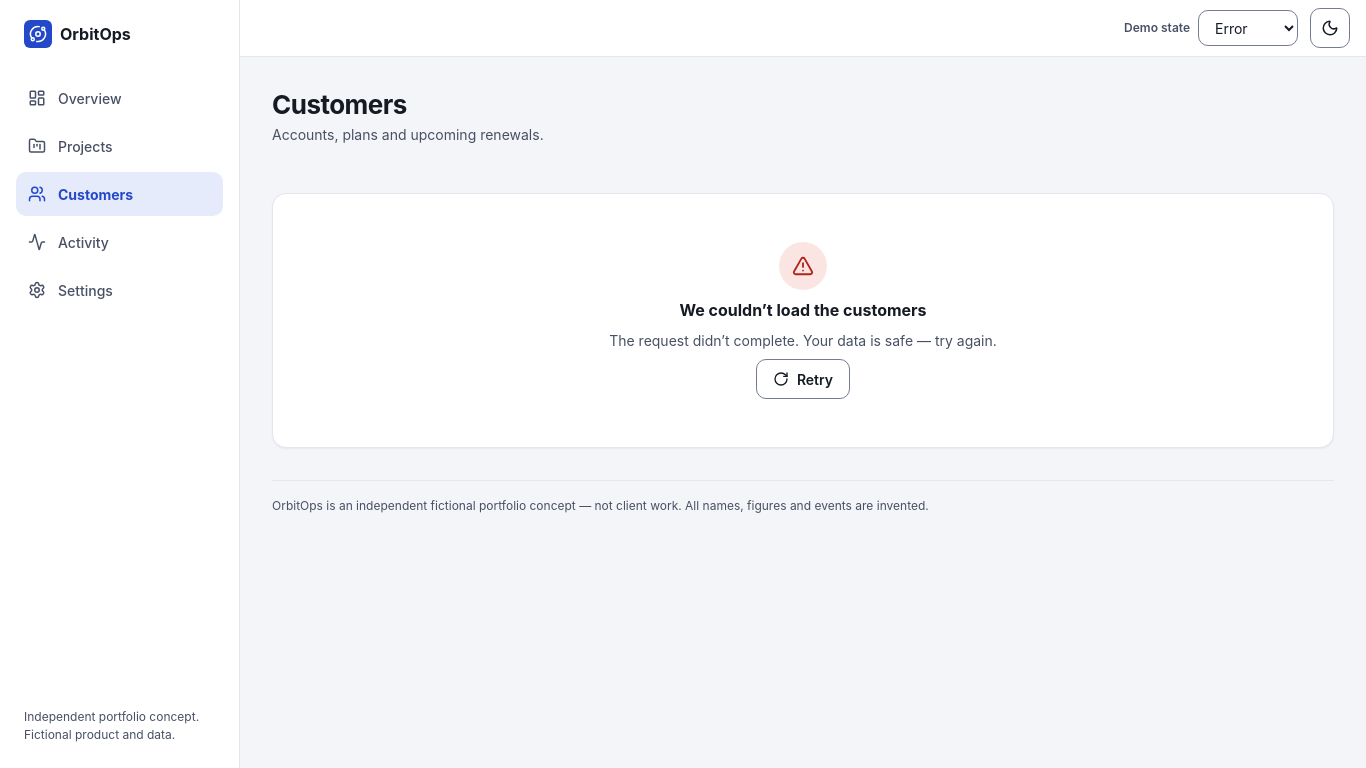
Scenario: data states › shows a recoverable error that Retry fixes
Expected: the message shows "couldn’t load", [679,300,926,320]
Click the button "Retry" at (803, 379), box [756,359,850,399]
(page scrolled)
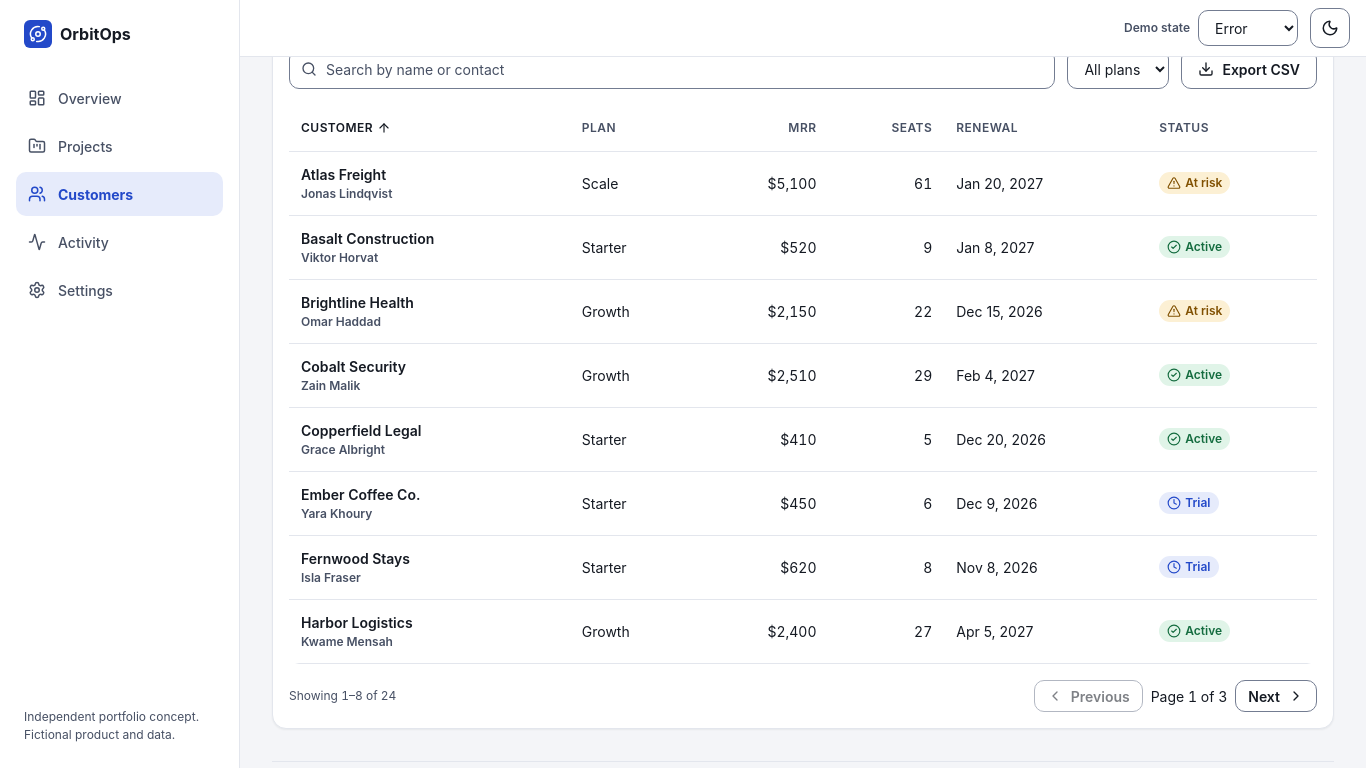
Result: the table is shown at [289,105,1317,664]
